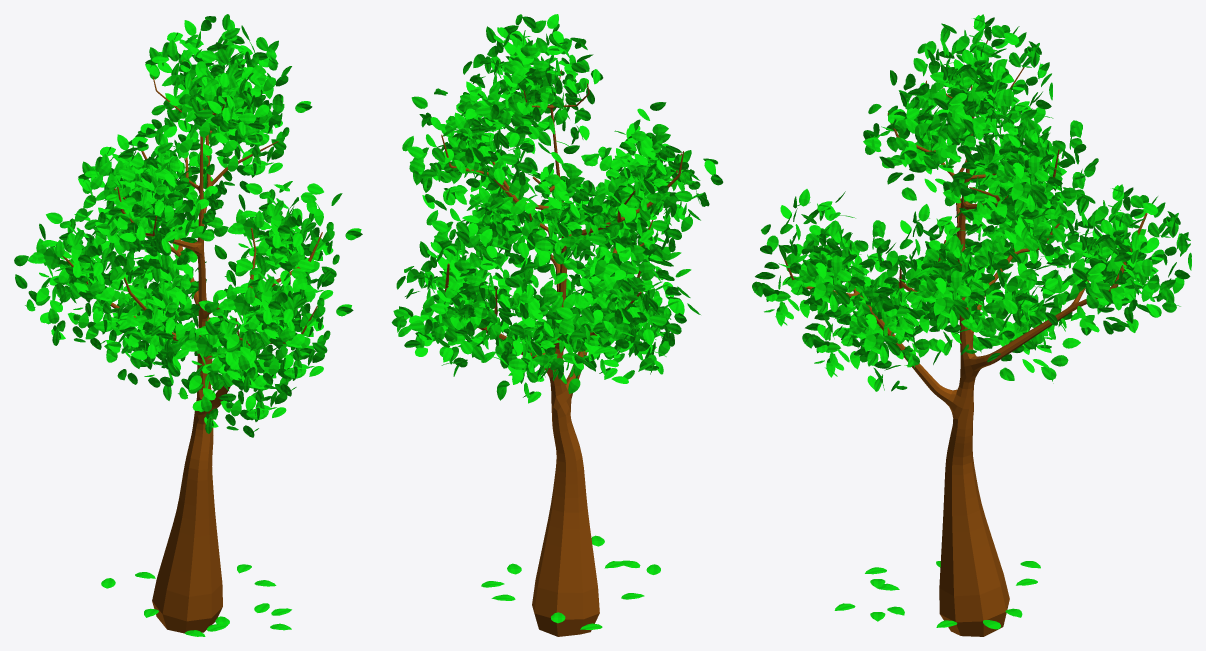
Rendered from TreeMagisteriaHighPoly.fbx.
The picture shows the model from 3 angles, left to right: view 1: azimuth 30°, elevation 25°; view 2: azimuth 150°, elevation 25°; view 3: azimuth 270°, elevation 25°; orthographic projection. The views are drawn at different scales.
Parts seen in each view (by area): view 1: Sheet.2359, Magisteria; view 2: Sheet.2359, Magisteria; view 3: Sheet.2359, Magisteria.
Part boxes in pixels (bbox=[...]): Sheet.2359: bbox=[14, 14, 362, 636]; Magisteria: bbox=[62, 60, 322, 633]; Sheet.2359: bbox=[391, 14, 723, 629]; Magisteria: bbox=[441, 69, 683, 636]; Sheet.2359: bbox=[752, 14, 1191, 629]; Magisteria: bbox=[784, 40, 1147, 636].
Bounding box in the file's own units: 449 × 883 × 565.
